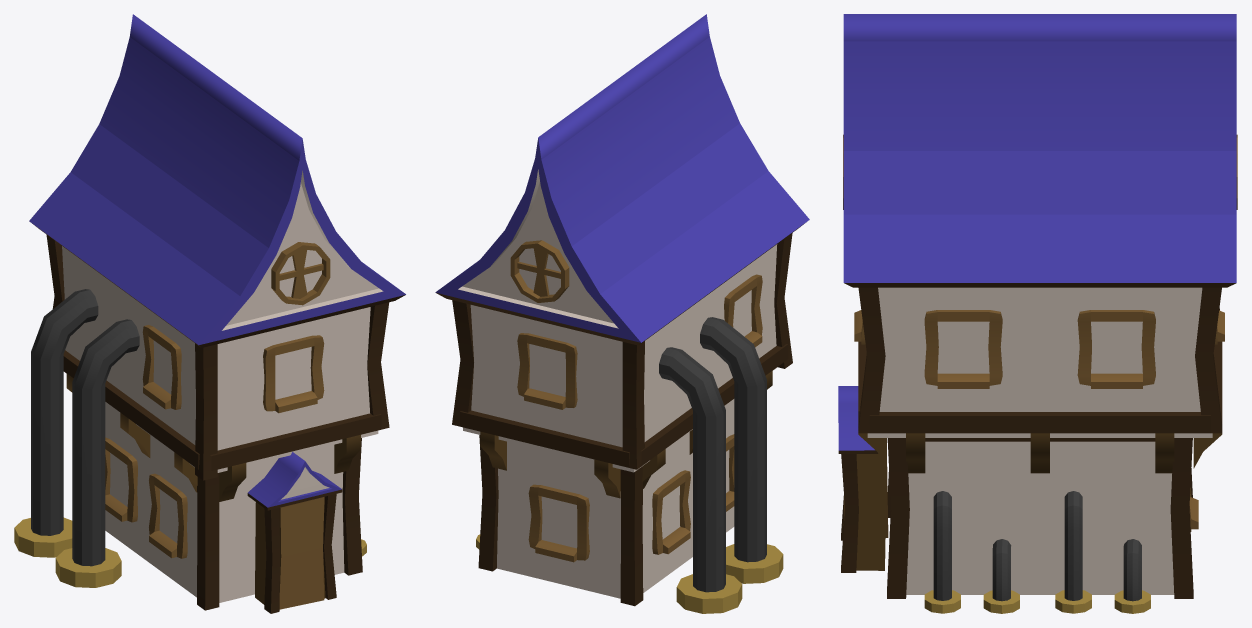
Rendered from House_1.fbx.
3 views of the same model, side by side, from view 1: azimuth 30°, elevation 25°; view 2: azimuth 150°, elevation 25°; view 3: azimuth 270°, elevation 25° (orthographic). The views are drawn at different scales.
Visible parts, largest first — view 1: pCube42, pCube41, pCylinder5, pCylinder6, polySurface7, polySurface27, pCube39, pCube34, pCylinder7; view 2: pCube42, pCube41, pCylinder6, pCylinder5, polySurface27, pCube39, pCylinder7, pCube34; view 3: pCube42, pCube41, pCylinder14, pCube39, polySurface27, polySurface7, pCube34, pCube40.
Part boxes in pixels (x1=…): pCube42: x1=29, y1=14, x2=405, y2=602; pCube41: x1=46, y1=234, x2=389, y2=613; pCylinder5: x1=55, y1=319, x2=139, y2=587; pCylinder6: x1=14, y1=289, x2=98, y2=557; polySurface7: x1=247, y1=452, x2=342, y2=609; polySurface27: x1=105, y1=325, x2=324, y2=558; pCube39: x1=63, y1=350, x2=381, y2=471; pCube34: x1=66, y1=373, x2=360, y2=501; pCylinder7: x1=271, y1=242, x2=330, y2=305; pCube42: x1=435, y1=14, x2=809, y2=598; pCube41: x1=452, y1=233, x2=792, y2=606; pCylinder6: x1=659, y1=347, x2=742, y2=613; pCylinder5: x1=700, y1=317, x2=783, y2=583; polySurface27: x1=517, y1=274, x2=762, y2=562; pCube39: x1=460, y1=344, x2=788, y2=467; pCylinder7: x1=510, y1=240, x2=569, y2=302; pCube34: x1=480, y1=371, x2=772, y2=498; pCube42: x1=843, y1=14, x2=1236, y2=594; pCube41: x1=841, y1=287, x2=1222, y2=598; pCylinder14: x1=924, y1=491, x2=1150, y2=613; pCube39: x1=858, y1=341, x2=1222, y2=433; polySurface27: x1=854, y1=310, x2=1224, y2=531; polySurface7: x1=838, y1=386, x2=888, y2=570; pCube34: x1=858, y1=433, x2=1222, y2=473; pCube40: x1=925, y1=438, x2=1155, y2=441.
Bounding box in the file's own units: 1836 × 3114 × 2084.
